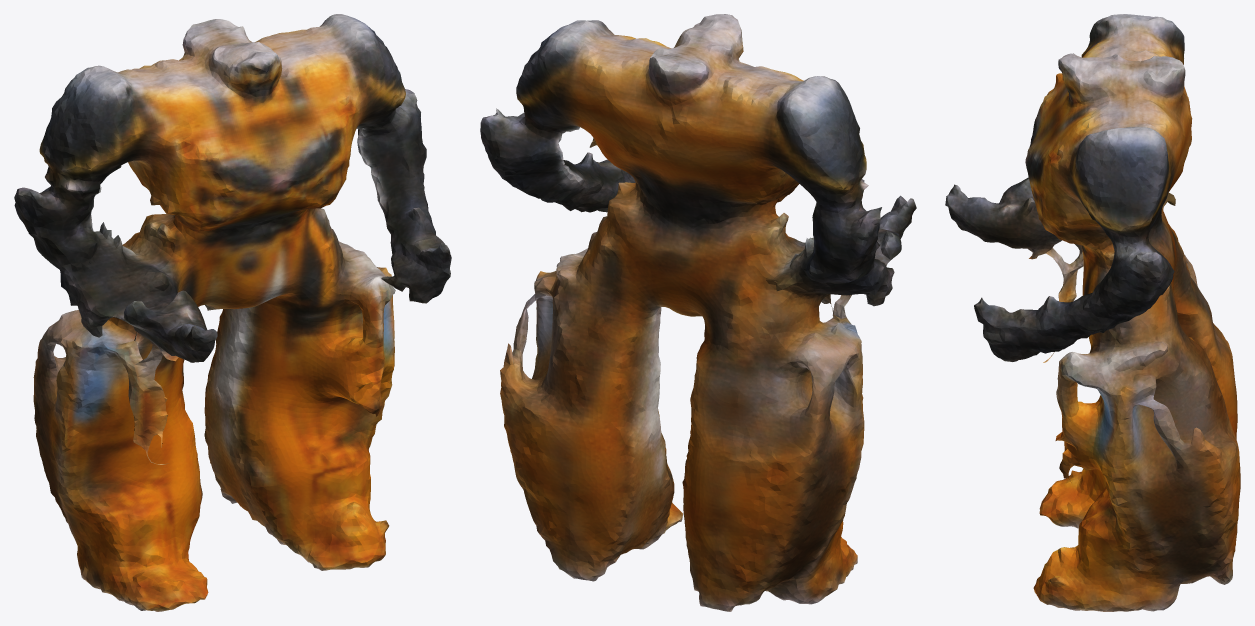
File: Transformer.glb
3 views of the same model, side by side, from view 1: azimuth 30°, elevation 25°; view 2: azimuth 150°, elevation 25°; view 3: azimuth 270°, elevation 25° (orthographic). The views are drawn at different scales.
Bounding box in the file's own units: 0.7983 × 1.02 × 0.5395.
1 material, 1 textured.
